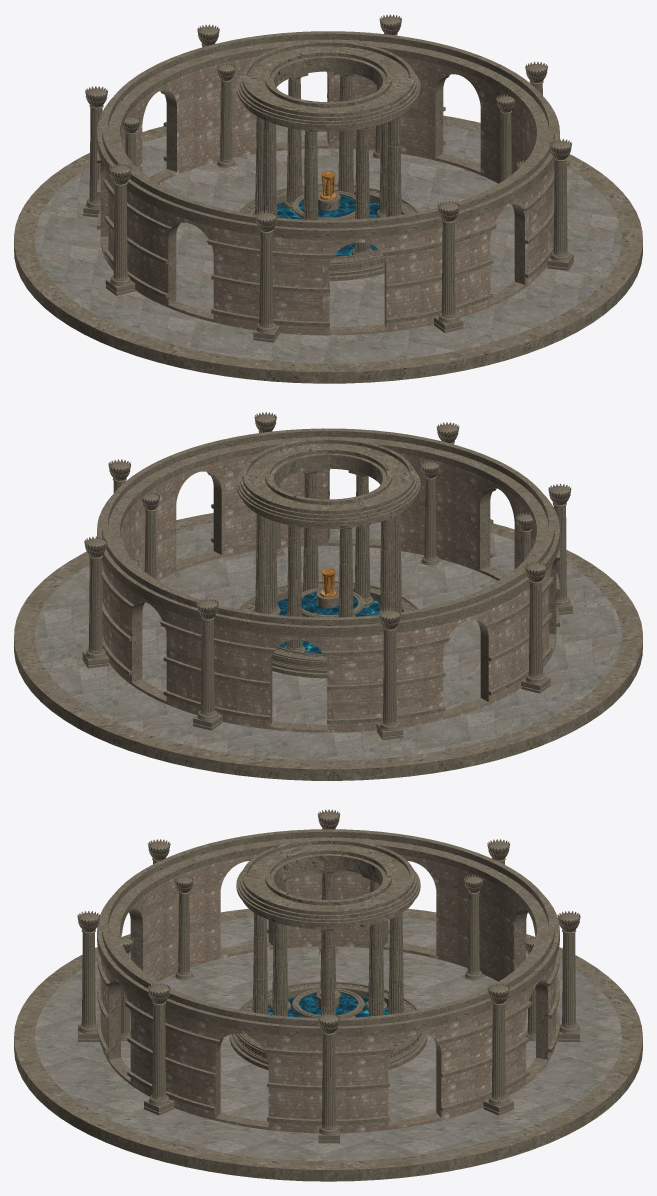
Rendered from fbxTemple.fbx.
3 views of the same model, one above another, from view 1: azimuth 30°, elevation 25°; view 2: azimuth 150°, elevation 25°; view 3: azimuth 270°, elevation 25° (orthographic).
Parts seen in each view (by area): view 1: structure, floor1, temple, column742, column705, column743, column706 (×2), column741, column746, column744, torch; view 2: structure, floor1, temple, column705, column746, column706, column745, column741 (×2), column742, column744, torch; view 3: structure, floor1, temple, column742 (×2), column746 (×2), column745, column743, column744, column741, column706.
Part boxes in pixels (bbox=[...]): structure: bbox=[97, 31, 559, 335]; floor1: bbox=[14, 115, 642, 383]; temple: bbox=[236, 41, 420, 280]; column742: bbox=[434, 200, 463, 332]; column705: bbox=[105, 163, 135, 295]; column743: bbox=[547, 139, 573, 270]; column706 (×2): bbox=[83, 86, 140, 217]; column741: bbox=[253, 210, 279, 342]; column746: bbox=[214, 63, 238, 168]; column744: bbox=[496, 94, 515, 182]; torch: bbox=[318, 171, 340, 210]; structure: bbox=[97, 428, 559, 732]; floor1: bbox=[14, 513, 642, 780]; temple: bbox=[236, 438, 420, 678]; column705: bbox=[521, 561, 550, 693]; column746: bbox=[193, 598, 222, 730]; column706: bbox=[376, 608, 403, 740]; column745: bbox=[82, 536, 108, 668]; column741 (×2): bbox=[516, 483, 572, 614]; column742: bbox=[418, 460, 442, 566]; column744: bbox=[141, 492, 159, 579]; torch: bbox=[316, 568, 338, 608]; structure: bbox=[97, 829, 559, 1133]; floor1: bbox=[14, 908, 642, 1181]; temple: bbox=[229, 839, 427, 1070]; column742 (×2): bbox=[77, 911, 133, 1041]; column746 (×2): bbox=[523, 911, 580, 1041]; column745: bbox=[483, 982, 513, 1115]; column743: bbox=[144, 982, 174, 1115]; column744: bbox=[317, 1012, 340, 1143]; column741: bbox=[171, 875, 196, 981]; column706: bbox=[461, 874, 486, 981].
Size of the model in its own units: 6.29 by 1.91 by 6.29.
5 materials, 5 textured.
